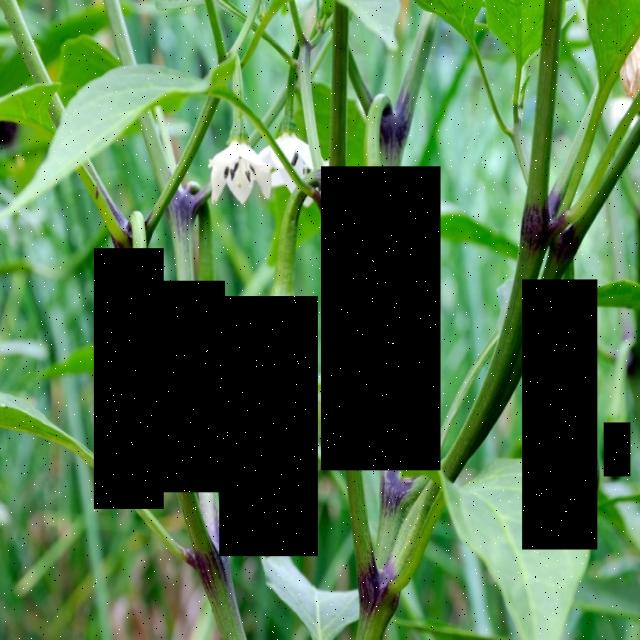Chili_Pepper: (321, 167, 441, 470), (220, 296, 318, 556), (522, 280, 598, 550), (94, 248, 164, 510), (163, 281, 225, 492), (604, 422, 630, 477)
